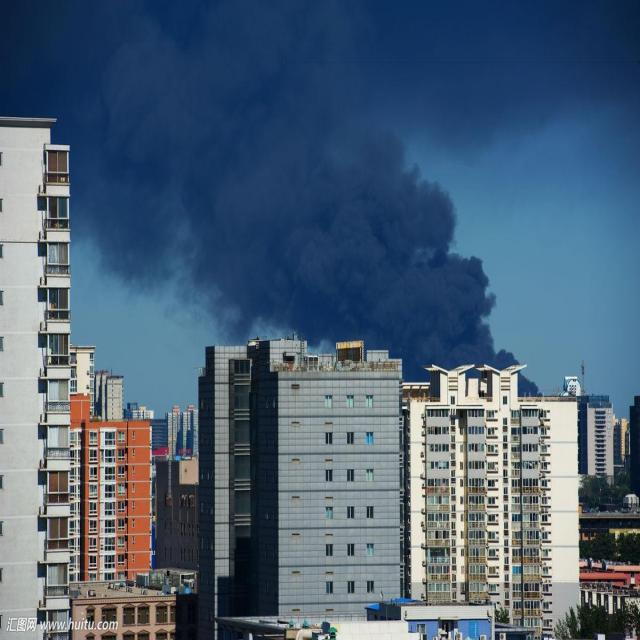smoke: (8, 1, 495, 355)
